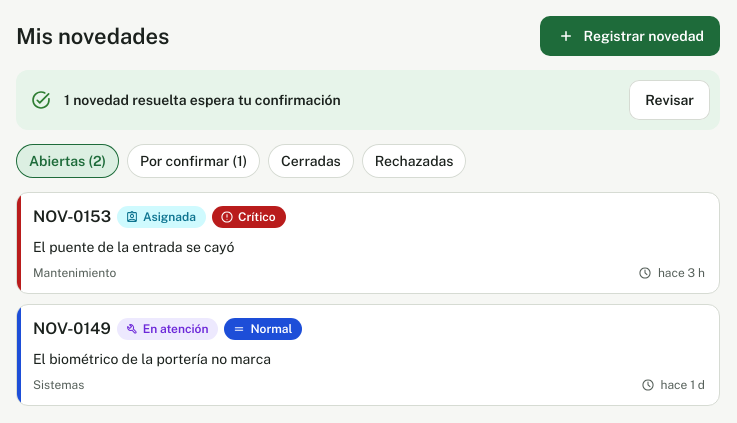
Test: Pantalla 04 · Mis novedades (RF-18) › RF-15: avisa que hay una novedad resuelta por confirmar y lleva a revisarla
The image size is (737, 423).
Expected: the text "1 novedad resuelta espera tu confirmación" is shown, [64,92,341,108]
Click the button "Revisar": x=670, y=100 [629,80,710,120]
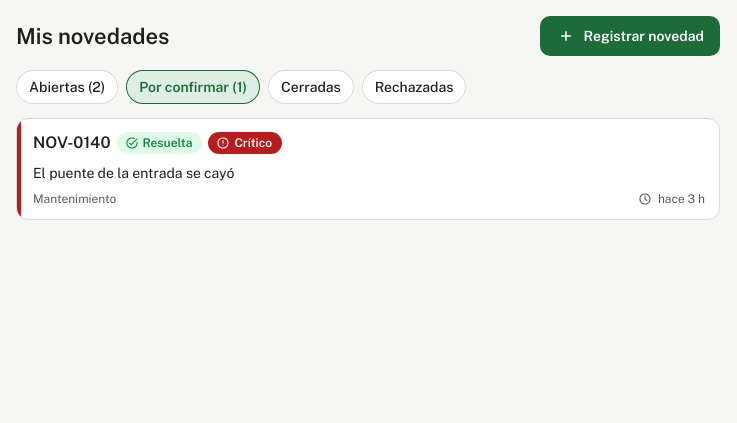
Expected: the heading "NOV-0140" is shown, [33,131,110,155]
